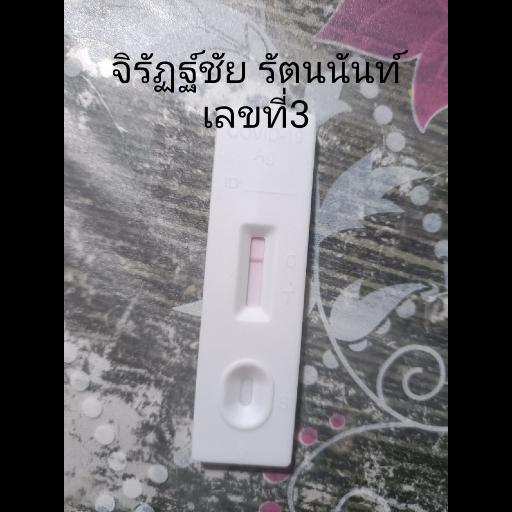Neg: (190, 104, 316, 466)
